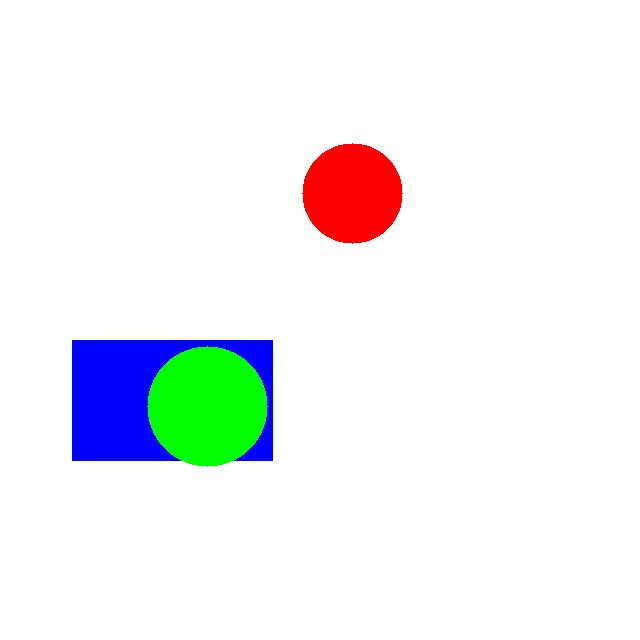cartao: (72, 340, 272, 460)
rosca_externa: (147, 346, 267, 466)
rosca_interna: (302, 143, 402, 243)
